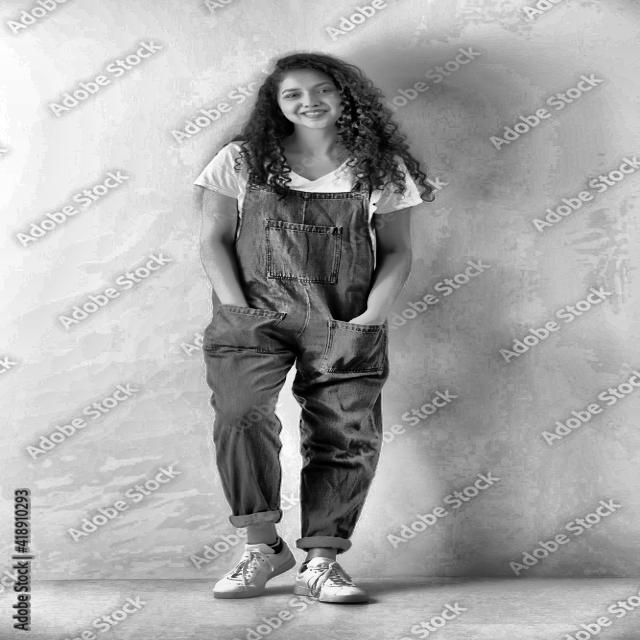Human: (177, 46, 447, 624)
